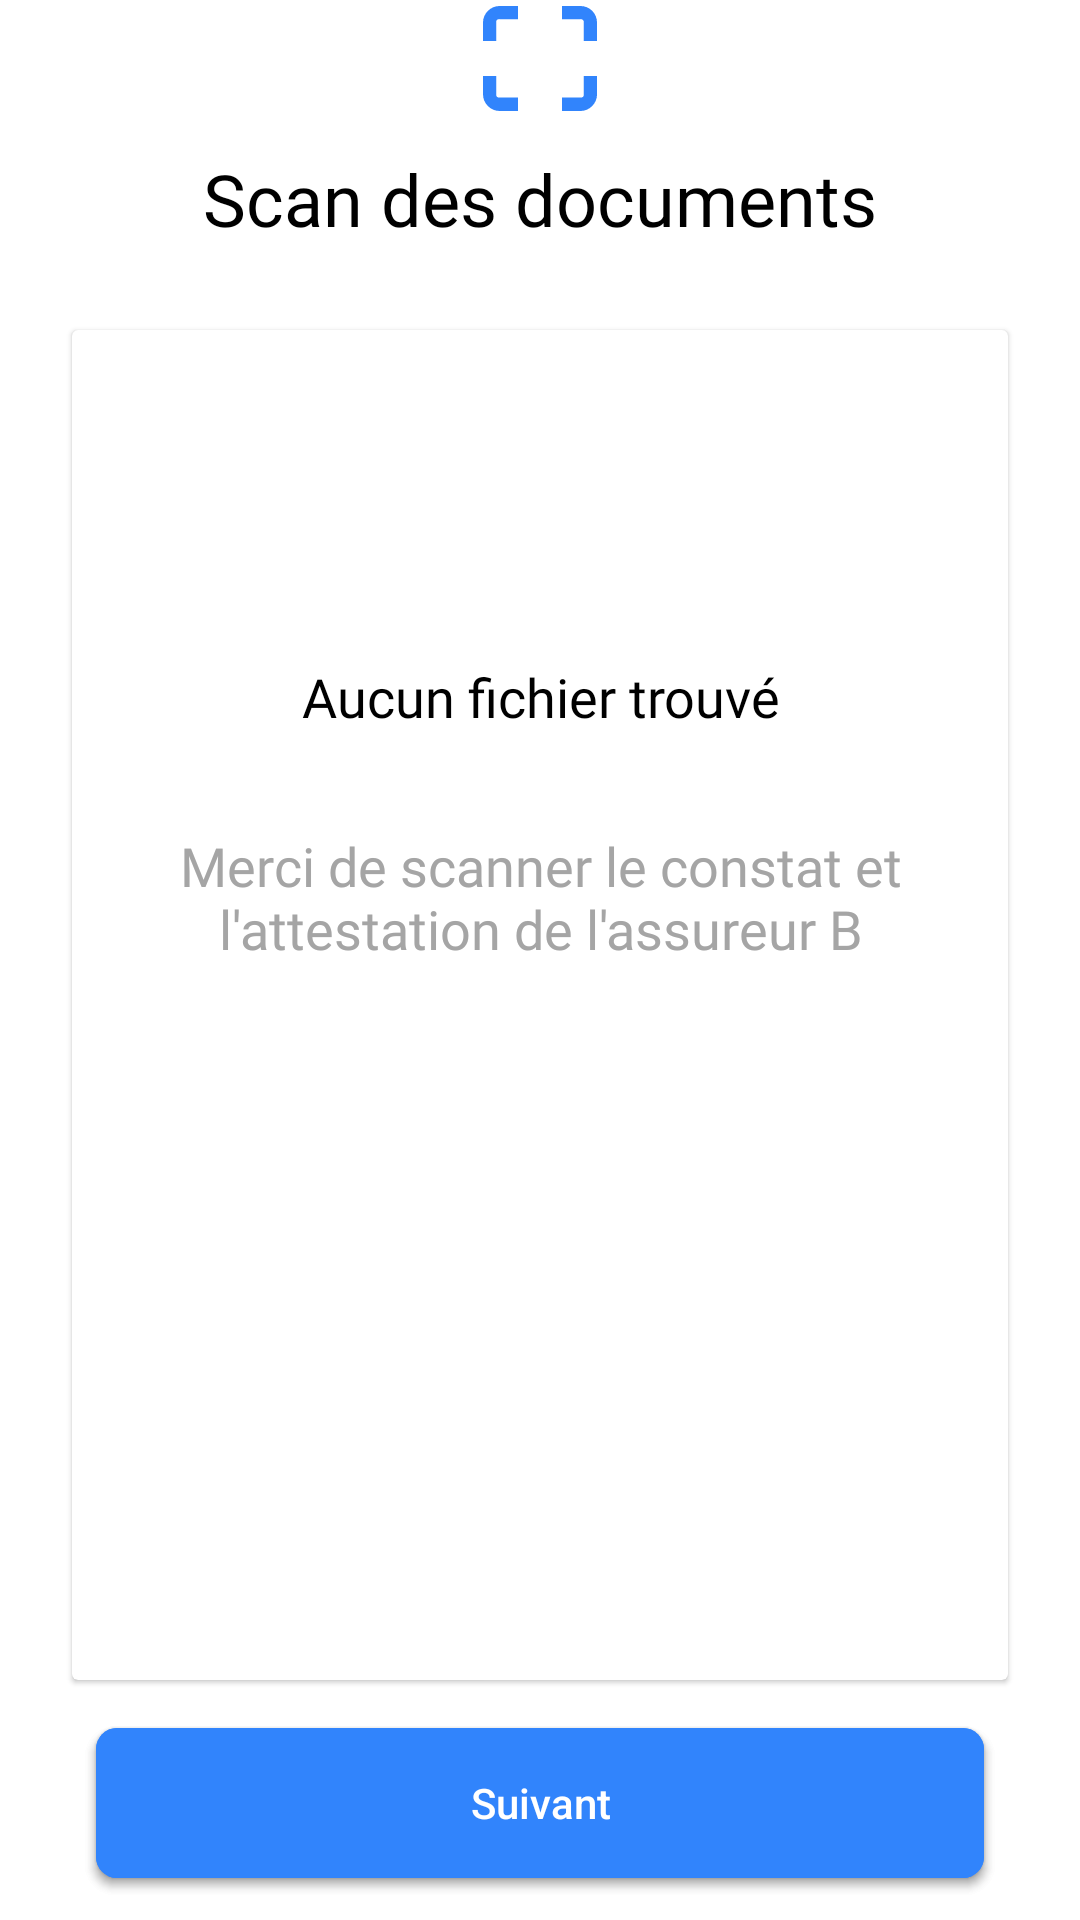

Icons on this 1080*1920 Android screen, each with its box as (x1, y1, x2, y2):
iscanner: (483, 6, 597, 111)
